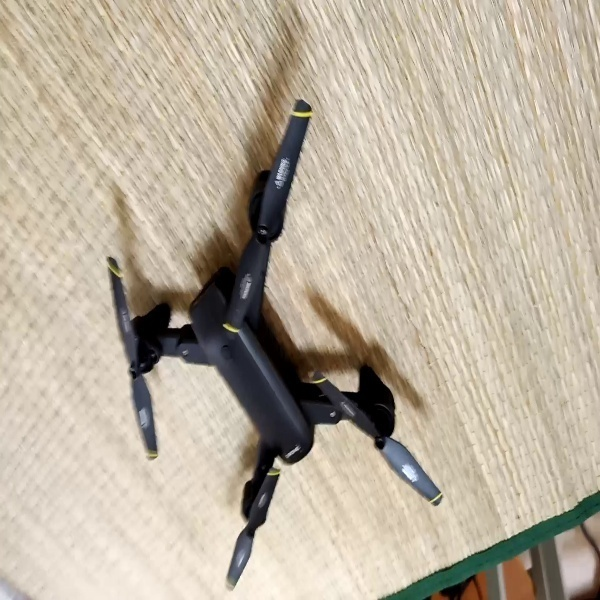drone: (101, 96, 447, 589)
